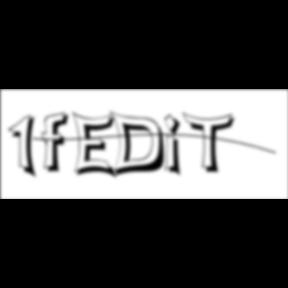1: (7, 114, 42, 182)
D: (110, 110, 172, 180)
E: (73, 110, 122, 182)
T: (183, 112, 241, 176)
f: (42, 111, 74, 175)
i: (165, 112, 189, 180)
